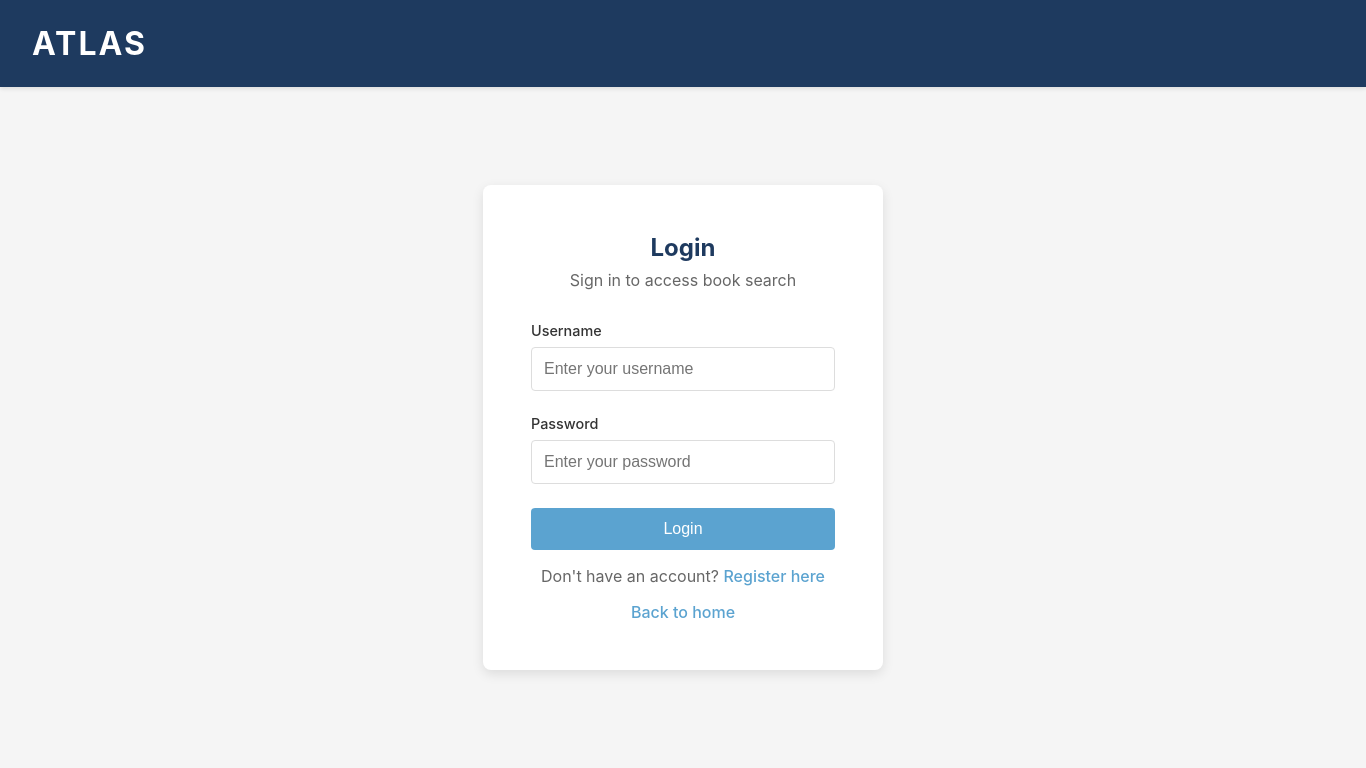
Scenario: LoginPage › Form Validation › should show error for short password
Type "testuser" into the field labelled "Username" at coordinates (683, 369), box [531, 347, 835, 391]
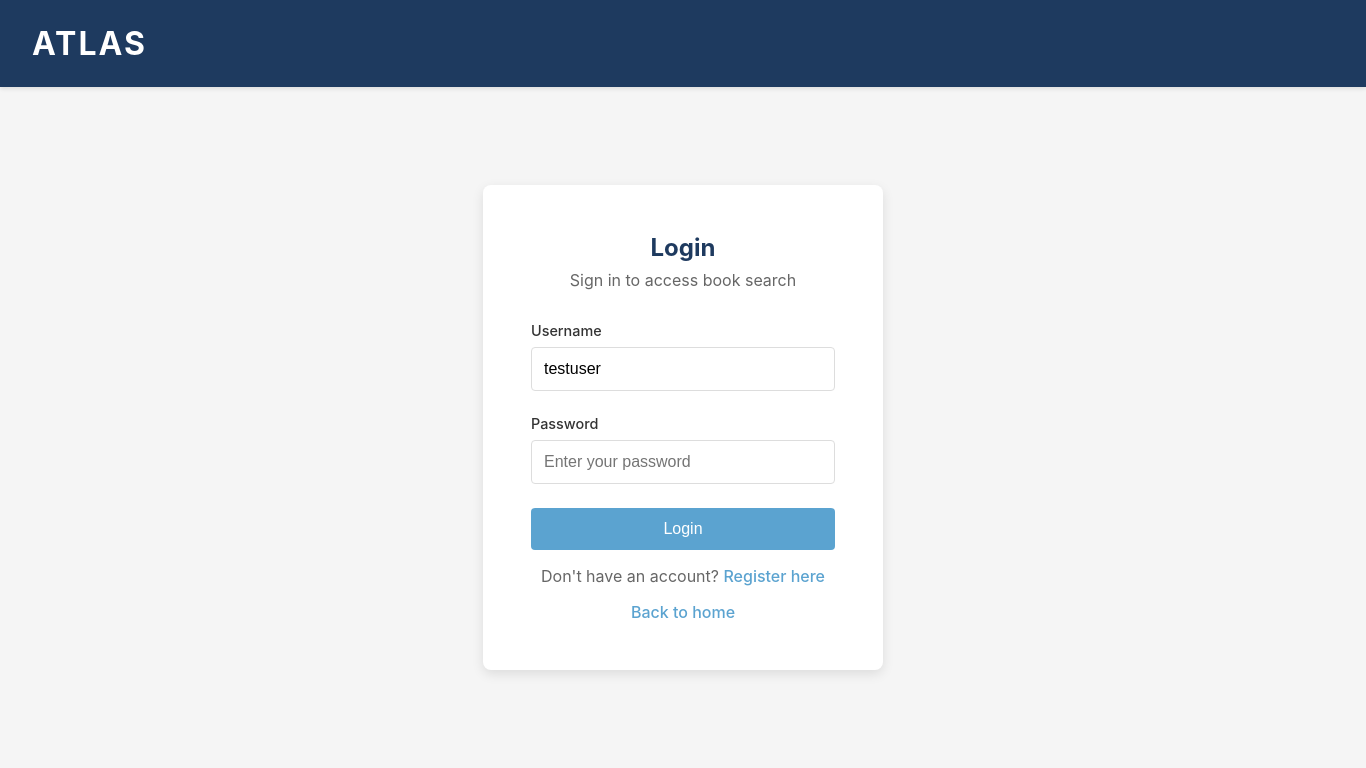
Type "12345" into the password field labelled "Password" at coordinates (683, 462), box [531, 440, 835, 484]
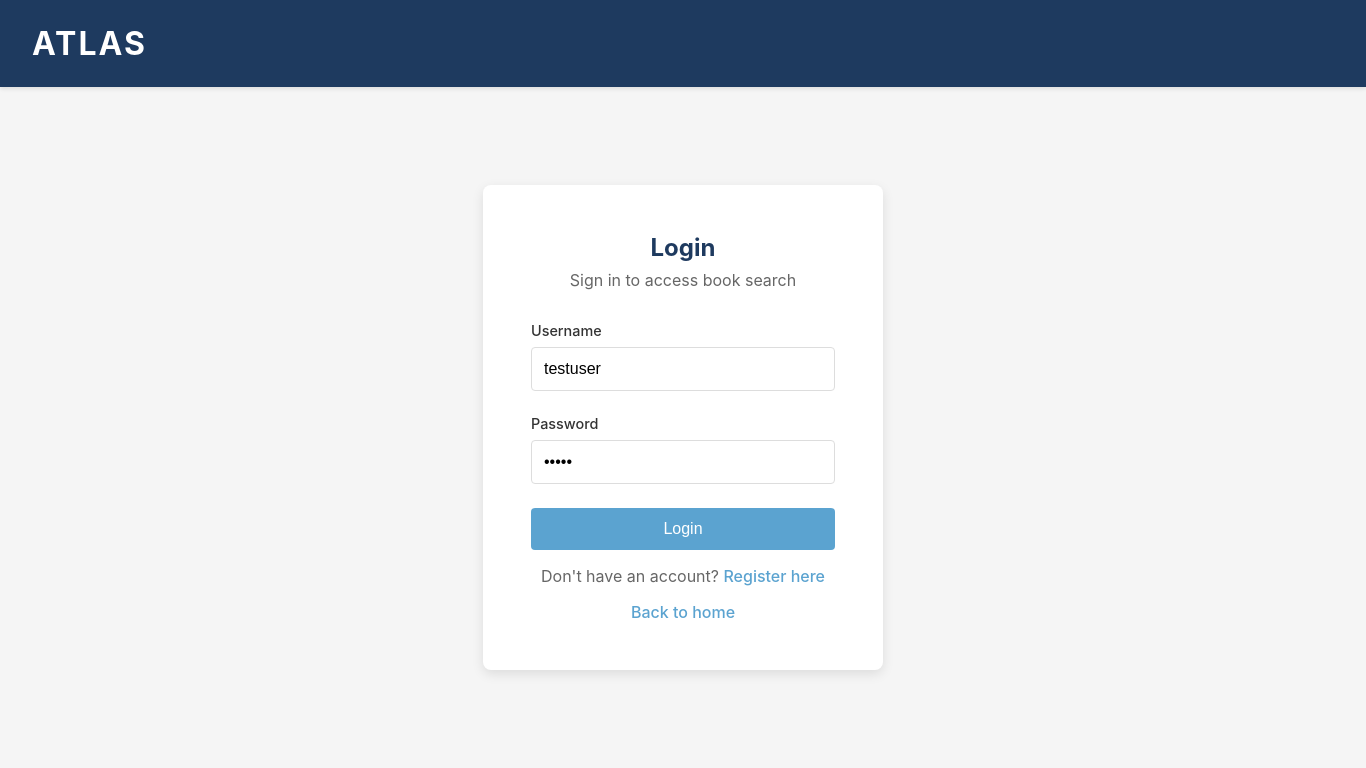
Click the button "Login" at coordinates (683, 529), box [531, 508, 835, 550]
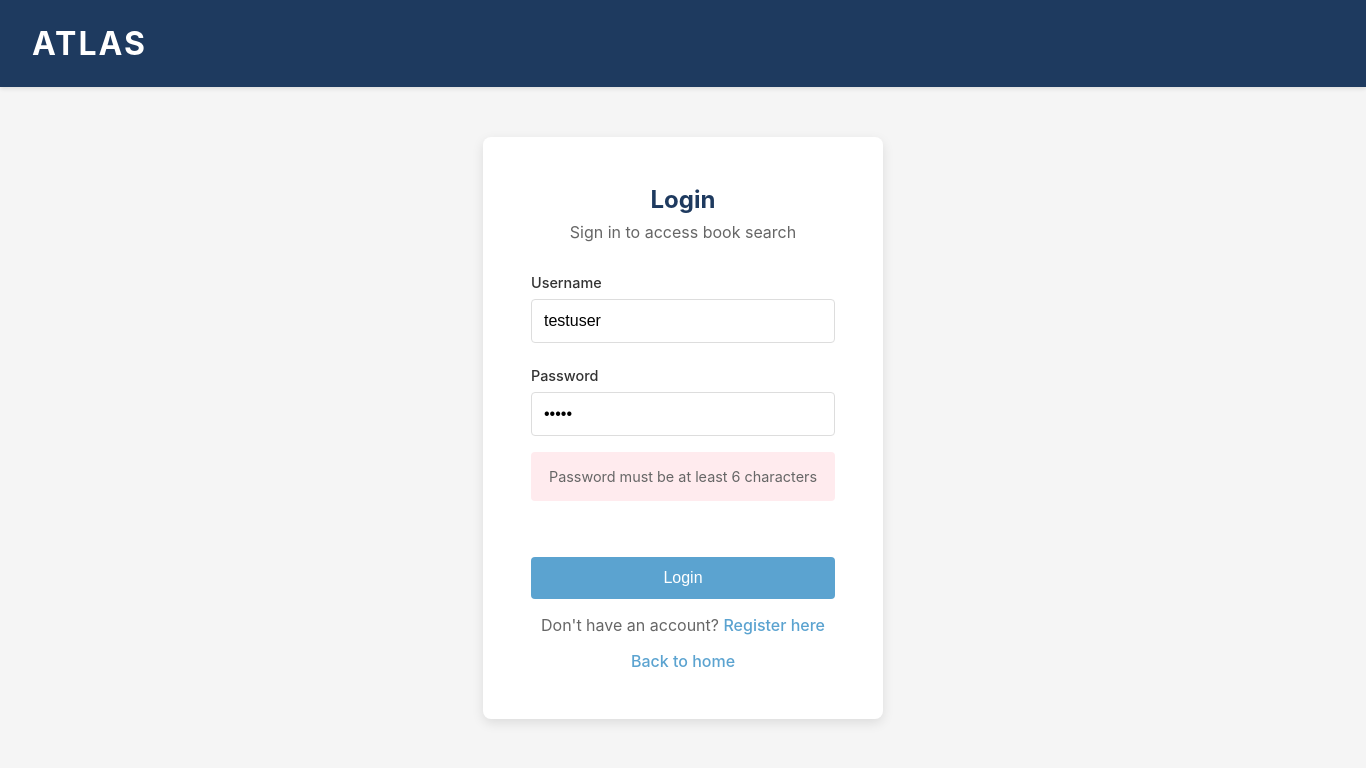
Check: the text "Password must be at least 6 characters" is shown, box [531, 452, 835, 500]
